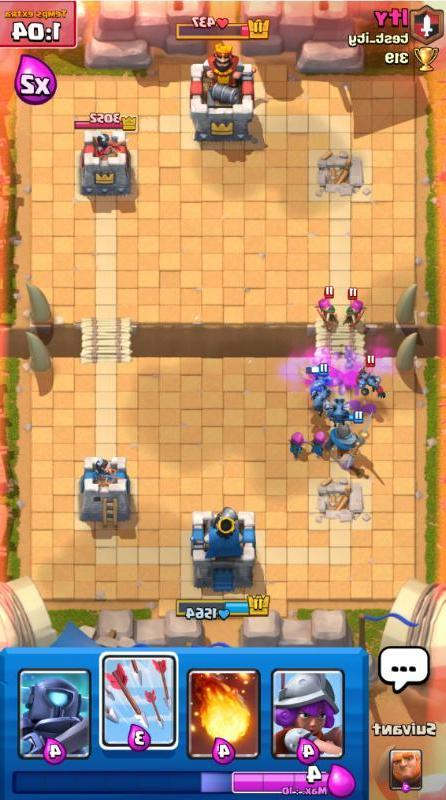enemy_archers: (313, 287, 340, 326), (341, 288, 368, 326)
enemy_minions: (352, 358, 388, 398)
player_archers: (307, 423, 332, 456), (284, 426, 309, 457)
player_knight: (324, 414, 373, 461)
player_minions: (304, 362, 337, 400), (323, 395, 351, 422)
